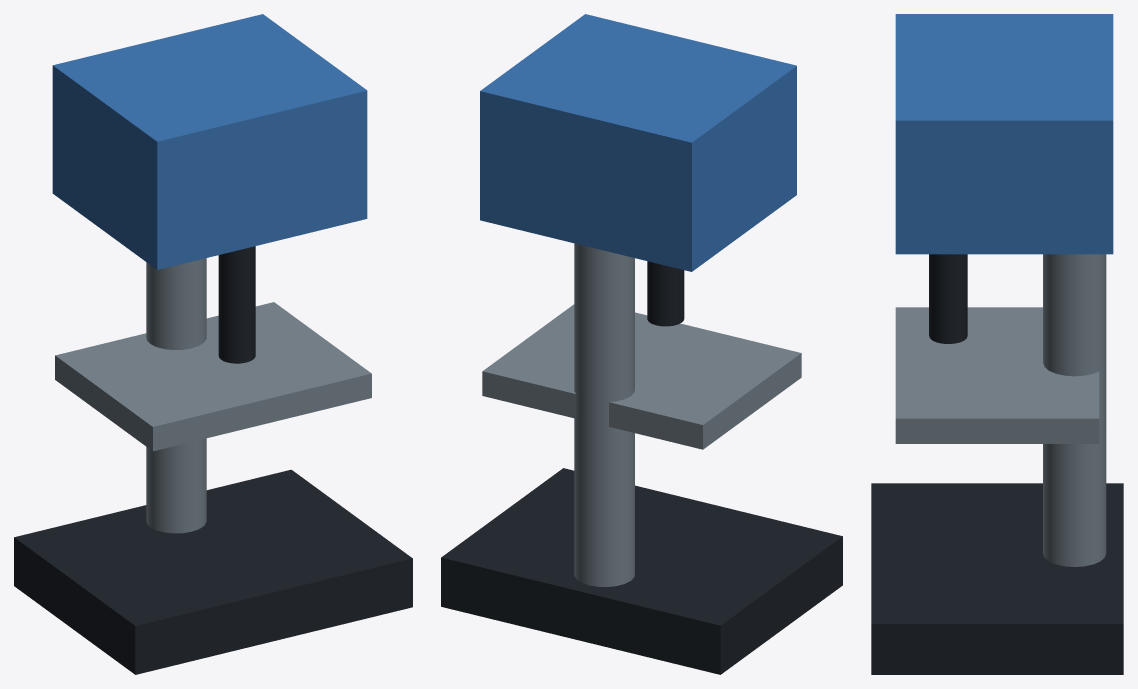
The model's file is drill-press.glb.
3 views of the same model, side by side, from view 1: azimuth 30°, elevation 25°; view 2: azimuth 150°, elevation 25°; view 3: azimuth 270°, elevation 25° (orthographic). The views are drawn at different scales.
Bounding box in the file's own units: 0.95 × 1.69 × 0.72.
